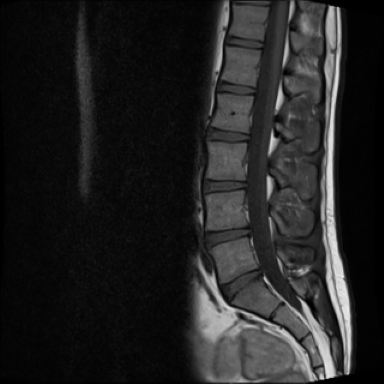Lumbar Disc Bulge (LDB): (198, 220, 256, 257)
Normal IVD: (210, 262, 264, 309), (194, 173, 252, 197), (198, 124, 252, 147), (215, 75, 257, 98), (223, 33, 265, 51)
